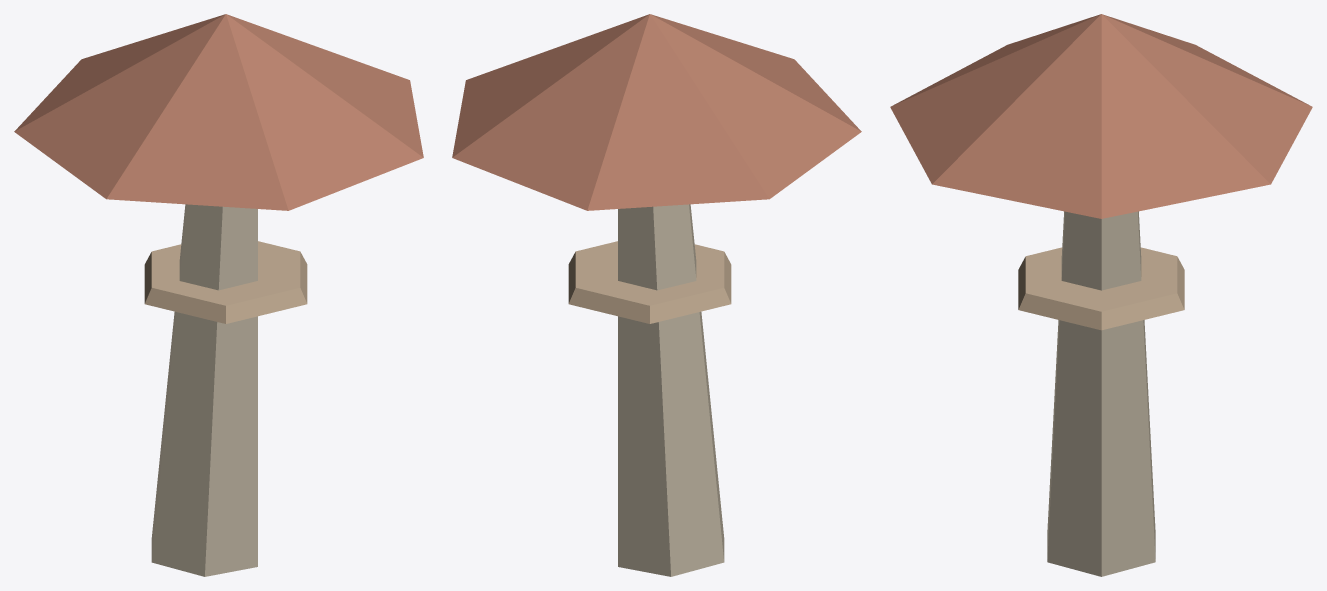
3 views of the same model, side by side, from view 1: azimuth 30°, elevation 25°; view 2: azimuth 150°, elevation 25°; view 3: azimuth 270°, elevation 25° (orthographic). The views are drawn at different scales.
Parts seen in each view (by area): view 1: Body; view 2: Body; view 3: Body.
Part boxes in pixels (x1=…): Body: x1=14, y1=14, x2=423, y2=576; Body: x1=452, y1=14, x2=861, y2=576; Body: x1=890, y1=14, x2=1312, y2=576.
Bounding box in the file's own units: 0.9885 × 1.45 × 1.01.
